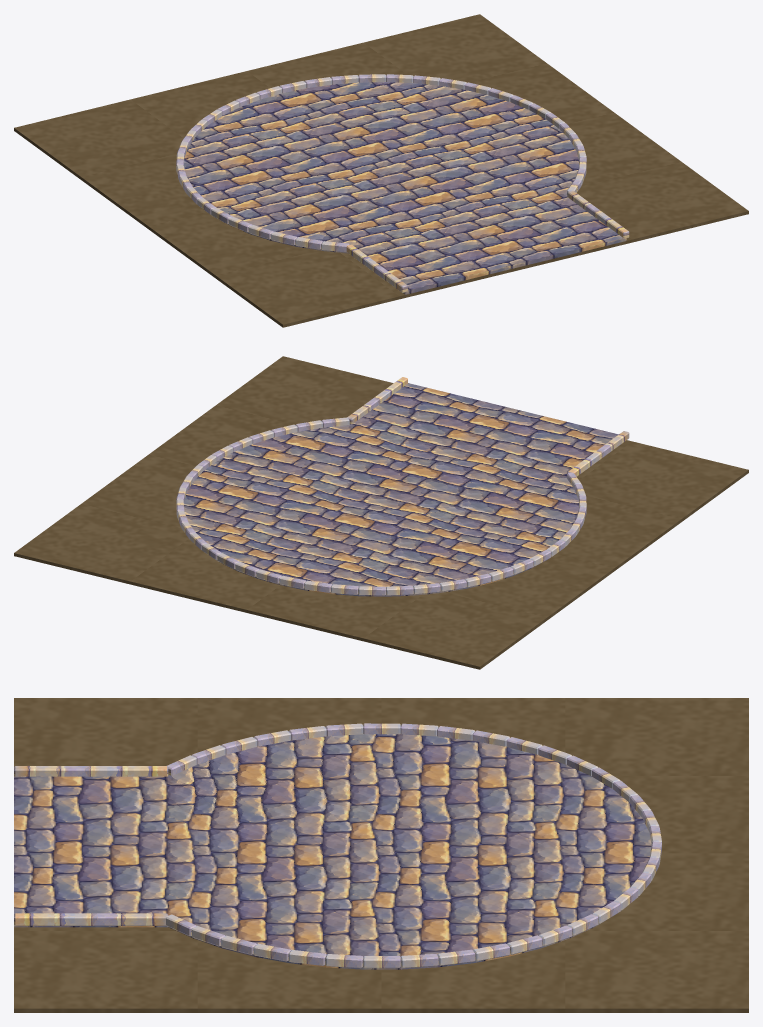
Rendered from Road_End.fbx.
3 renders of one model, top to bottom at view 1: azimuth 30°, elevation 25°; view 2: azimuth 150°, elevation 25°; view 3: azimuth 270°, elevation 25°, orthographic. The views are drawn at different scales.
Visible parts, largest first — view 1: Road_End.001; view 2: Road_End.001; view 3: Road_End.001.
Part boxes in pixels (x1=…): Road_End.001: x1=14, y1=14, x2=748, y2=327; Road_End.001: x1=14, y1=356, x2=748, y2=669; Road_End.001: x1=14, y1=698, x2=748, y2=1012.
Bounding box in the file's own units: 800 × 19.5 × 800.
3 materials, 3 textured.
